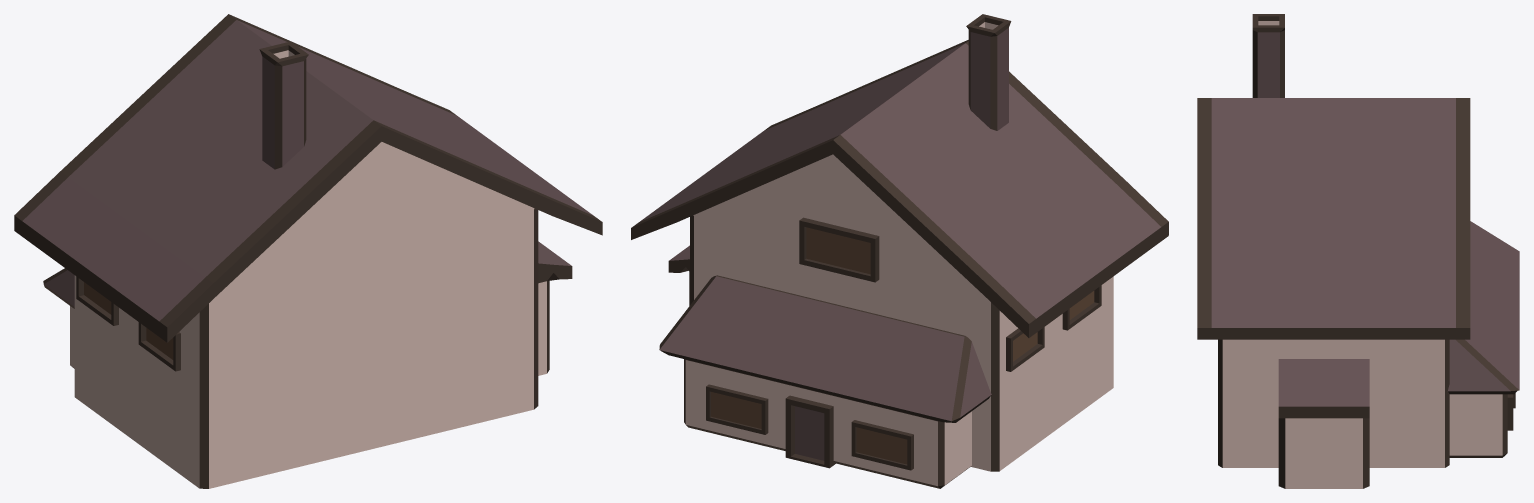
The model's file is bighouse.fbx.
The picture shows the model from 3 angles, left to right: view 1: azimuth 30°, elevation 25°; view 2: azimuth 150°, elevation 25°; view 3: azimuth 270°, elevation 25°; orthographic projection. The views are drawn at different scales.
Visible parts, largest first — view 1: Cube.002; view 2: Cube.002; view 3: Cube.002.
Boxes of the visible parts, left/top/right/bottom form: Cube.002: left=14, top=14, right=602, bottom=488; Cube.002: left=631, top=14, right=1168, bottom=488; Cube.002: left=1197, top=14, right=1519, bottom=488.
Bounding box in the file's own units: 572 × 478 × 398.
